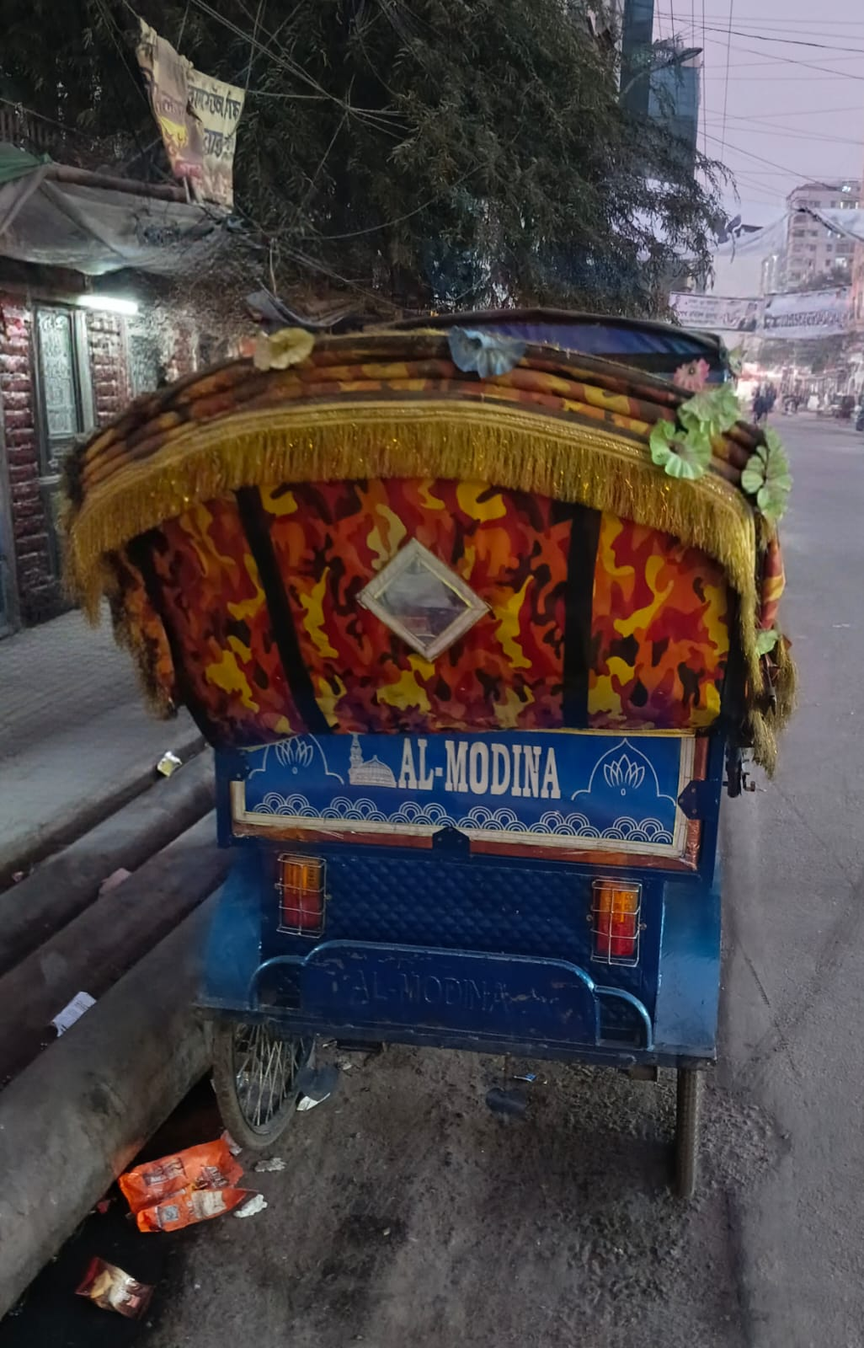auto-ricksaw: (39, 276, 864, 1239)
